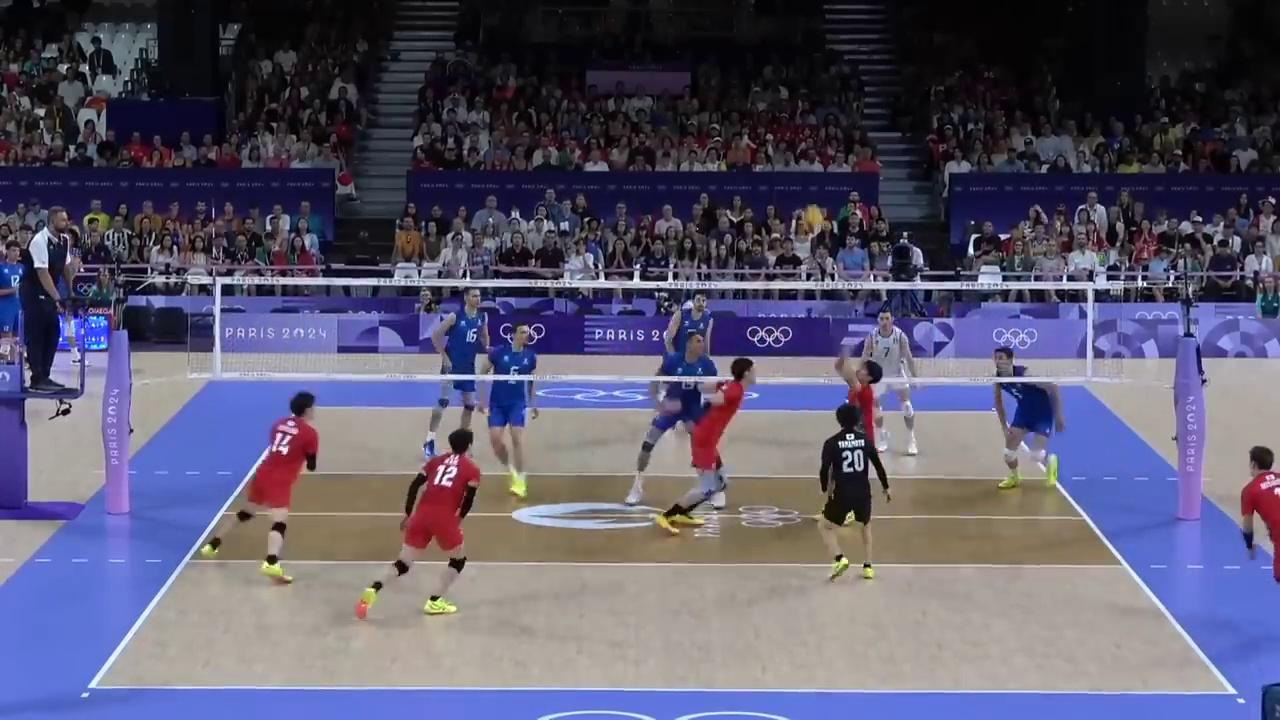ball: (802, 206, 822, 231)
